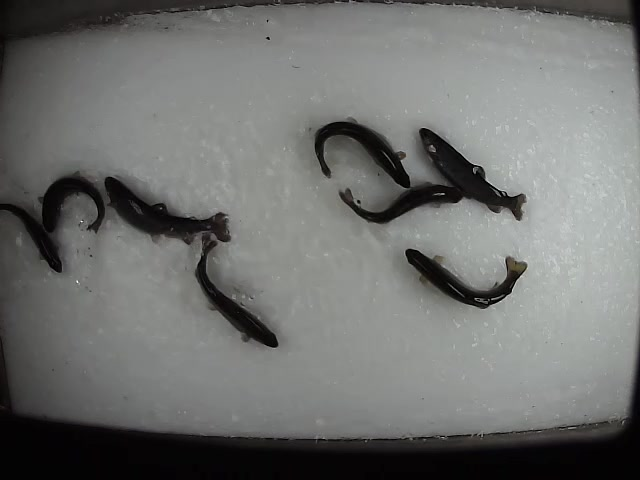fish: (418, 124, 528, 224), (193, 232, 281, 349), (103, 173, 232, 247), (403, 245, 529, 310), (311, 113, 412, 188), (336, 179, 464, 228), (1, 201, 66, 275), (36, 168, 105, 235)
